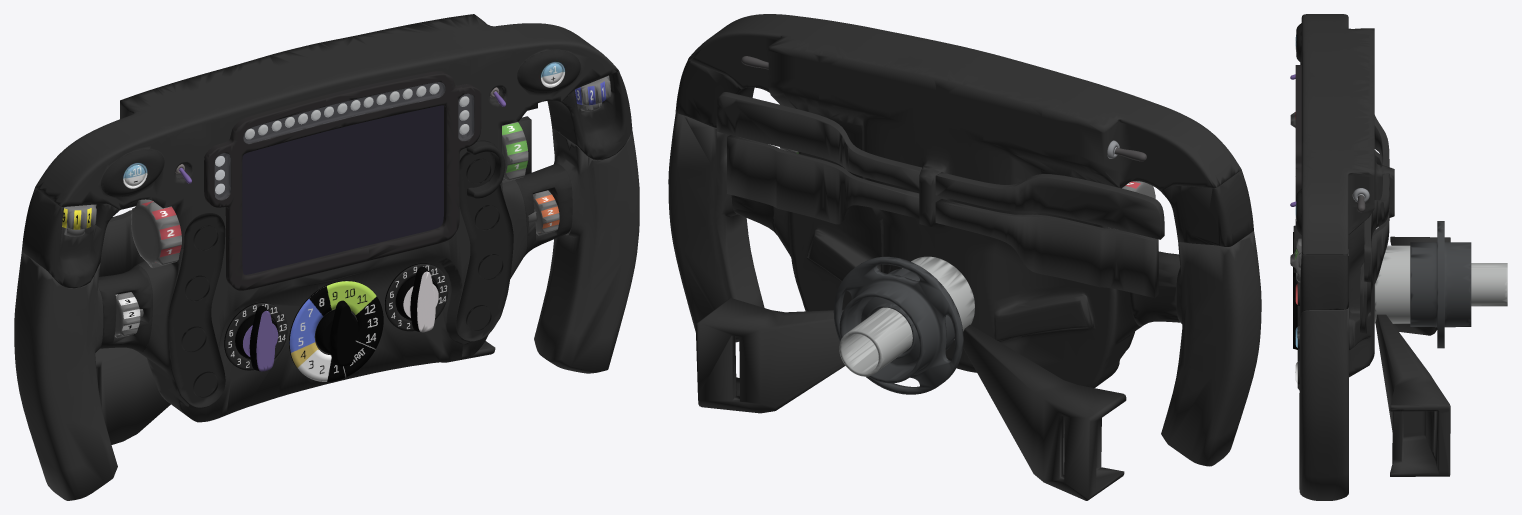
Rendered from mclaren_formula_1_steering_wheel.glb.
3 renders of one model, left to right at view 1: azimuth 30°, elevation 25°; view 2: azimuth 150°, elevation 25°; view 3: azimuth 270°, elevation 25°, orthographic. The views are drawn at different scales.
Parts seen in each view (by area): view 1: Plane.001_handle_0, Plane_maincase_0, Plane.011_buttons_0, Circle_rotary_sticker_0, Cylinder.004_rotarywheel_0, Plane.006_gray_0, Plane.013_glass_0, Circle.003_led_indicator_top_0; view 2: Plane_maincase_0, Plane.006_gray_0, Plane.001_handle_0; view 3: Plane.001_handle_0, Plane_maincase_0, Plane.006_gray_0, Plane.011_buttons_0, Cylinder.004_rotarywheel_0.
Boxes of the visible parts, bbox=[...] form: Plane.001_handle_0: bbox=[14, 71, 639, 500]; Plane_maincase_0: bbox=[35, 14, 618, 422]; Plane.011_buttons_0: bbox=[168, 140, 513, 407]; Circle_rotary_sticker_0: bbox=[224, 263, 448, 381]; Cylinder.004_rotarywheel_0: bbox=[62, 75, 611, 338]; Plane.006_gray_0: bbox=[95, 103, 537, 444]; Plane.013_glass_0: bbox=[215, 82, 473, 199]; Circle.003_led_indicator_top_0: bbox=[245, 83, 469, 139]; Plane_maincase_0: bbox=[688, 14, 1241, 387]; Plane.006_gray_0: bbox=[695, 92, 1164, 500]; Plane.001_handle_0: bbox=[668, 56, 1261, 466]; Plane.001_handle_0: bbox=[1290, 62, 1507, 500]; Plane_maincase_0: bbox=[1295, 14, 1394, 377]; Plane.006_gray_0: bbox=[1360, 115, 1450, 476]; Plane.011_buttons_0: bbox=[1293, 225, 1301, 390]; Cylinder.004_rotarywheel_0: bbox=[1290, 112, 1348, 339].
Bounding box in the file's own units: 4.15 × 2.38 × 1.56.
Materials: 9 (8 with a texture image).
